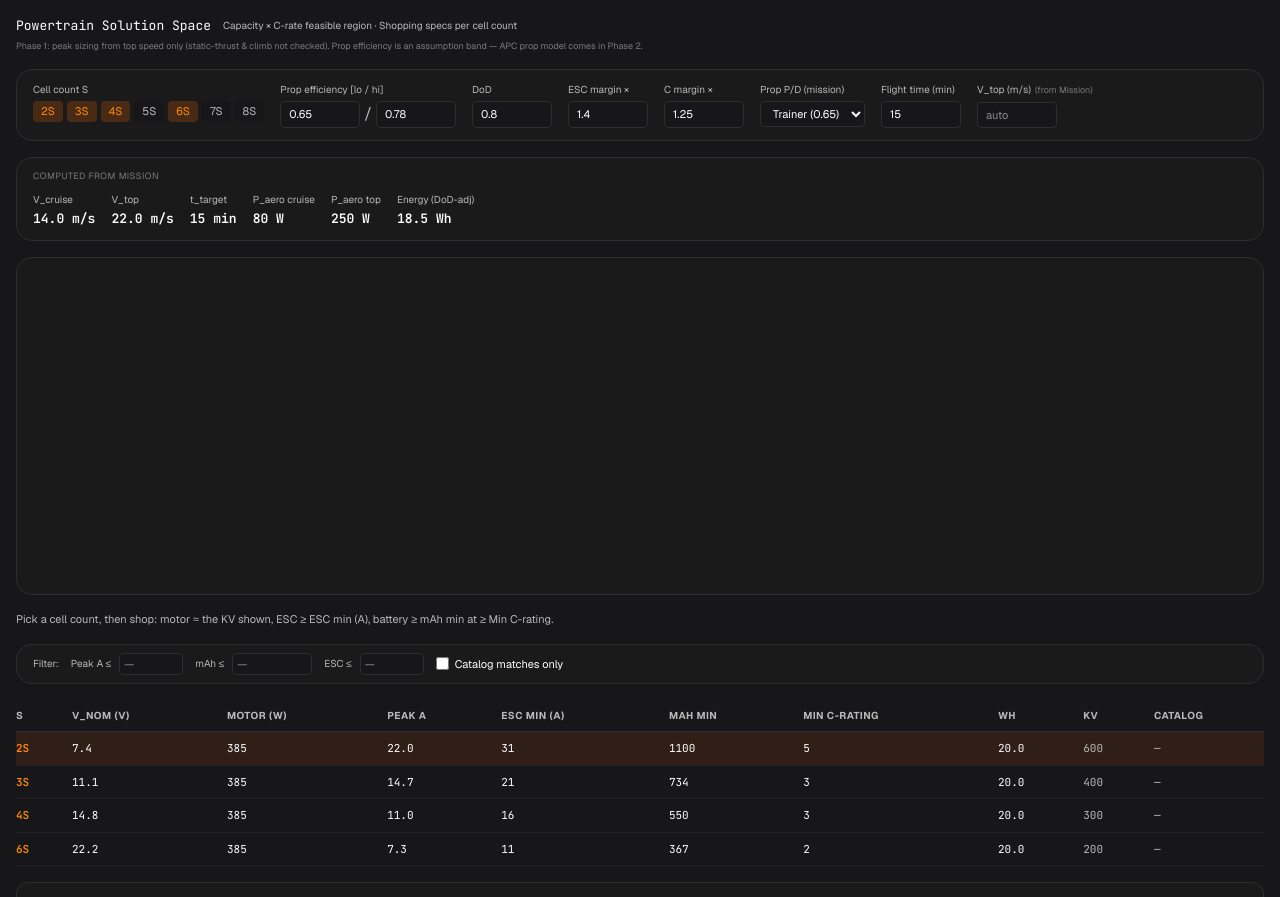
Test case: PowertrainTab › mAh filter reduces visible rows (conservative ceil(capacity_mah_min_hi))
Type "400" into the number field with test id "filter-mah". click: (272, 664)
box: [232,652,312,675]
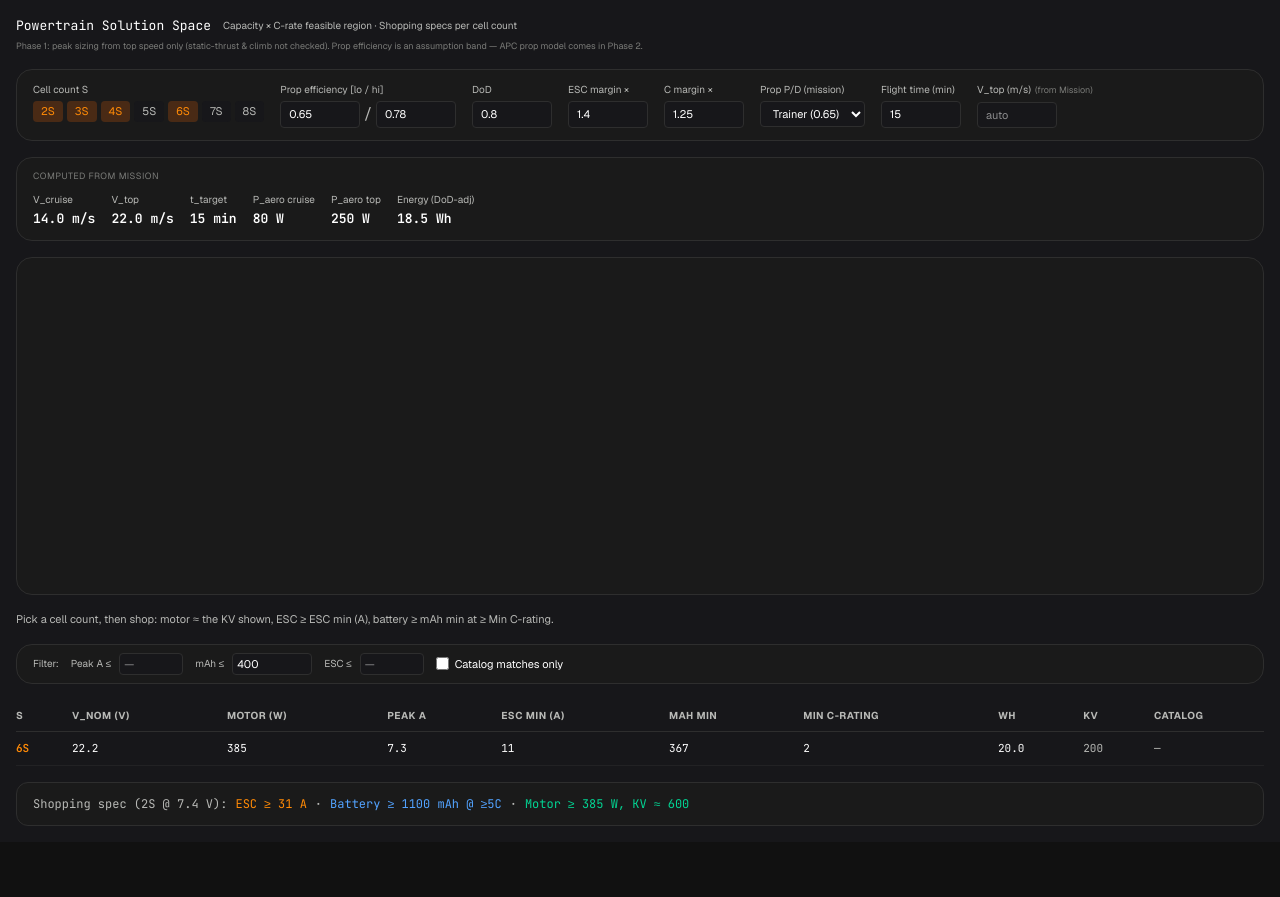
Check: the row with test id "solution-row-2" is gone
Check: the row with test id "solution-row-3" is gone
Check: the row with test id "solution-row-4" is gone
